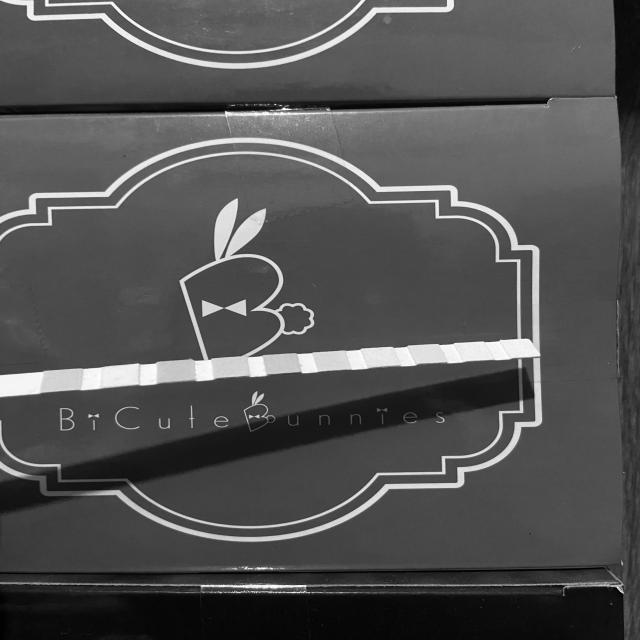Bilirubin: (102, 368, 138, 384)
Blood: (266, 355, 297, 372)
Glucose: (45, 371, 81, 390)
Ketone: (158, 362, 194, 380)
Leukocytes: (508, 340, 530, 356)
Nitrite: (461, 344, 485, 356)
Protein: (366, 348, 394, 366)
SpGravity: (215, 359, 248, 376)
Urobilinogen: (415, 346, 439, 362)
background: (0, 0, 640, 640)
pH: (316, 352, 346, 368)
strip: (1, 339, 539, 398)
